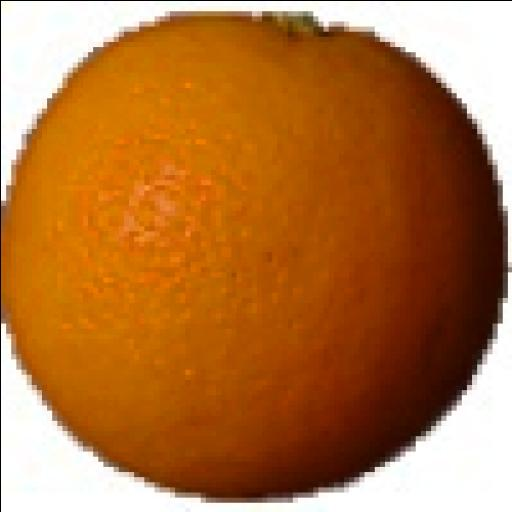orange: (7, 17, 507, 497)
